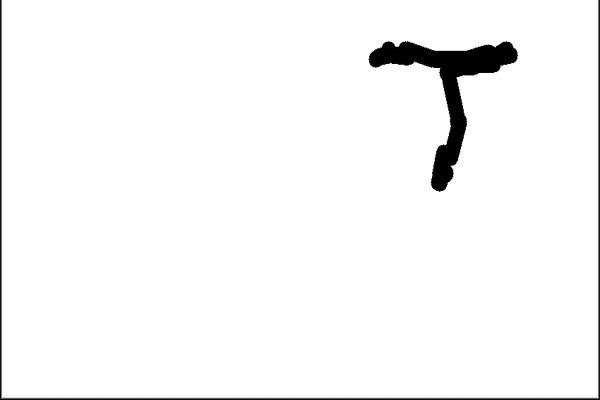T: (362, 26, 524, 193)
